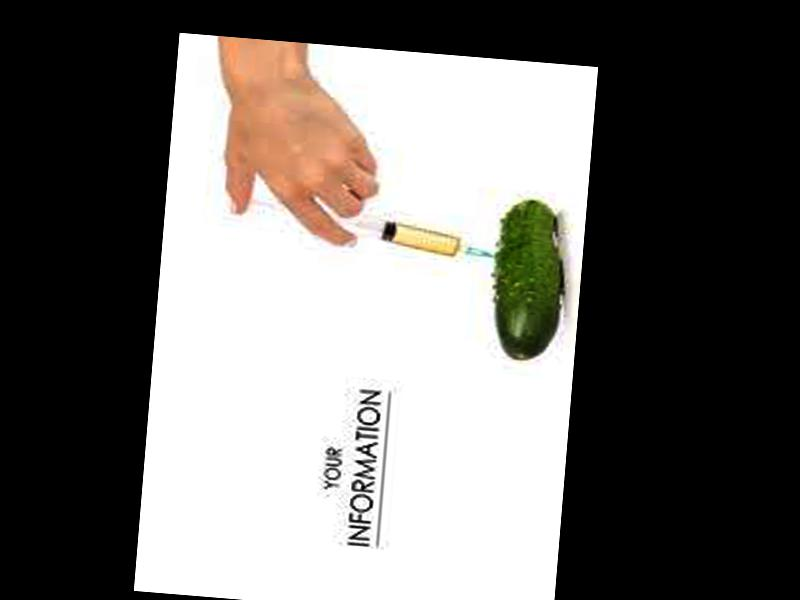Cucumber: (487, 195, 565, 362)
